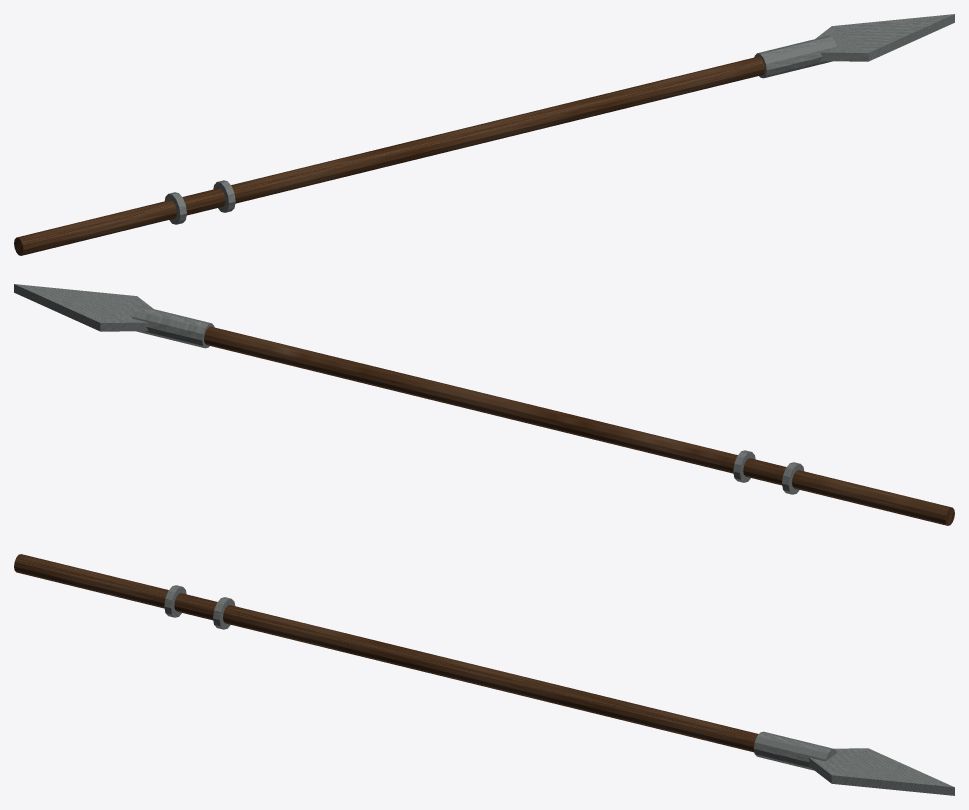
Rendered from weapon-spear.glb.
3 views of the same model, one above another, from view 1: azimuth 30°, elevation 25°; view 2: azimuth 150°, elevation 25°; view 3: azimuth 330°, elevation 25° (orthographic).
Visible parts, largest first — view 1: weapon_spear; view 2: weapon_spear; view 3: weapon_spear.
Boxes of the visible parts, left/top/right/bottom form: weapon_spear: left=14, top=14, right=954, bottom=255; weapon_spear: left=14, top=284, right=954, bottom=525; weapon_spear: left=14, top=554, right=954, bottom=795.
Size of the model in its own units: 2.5 by 0.074 by 0.17.
Materials: 1 (1 with a texture image).
